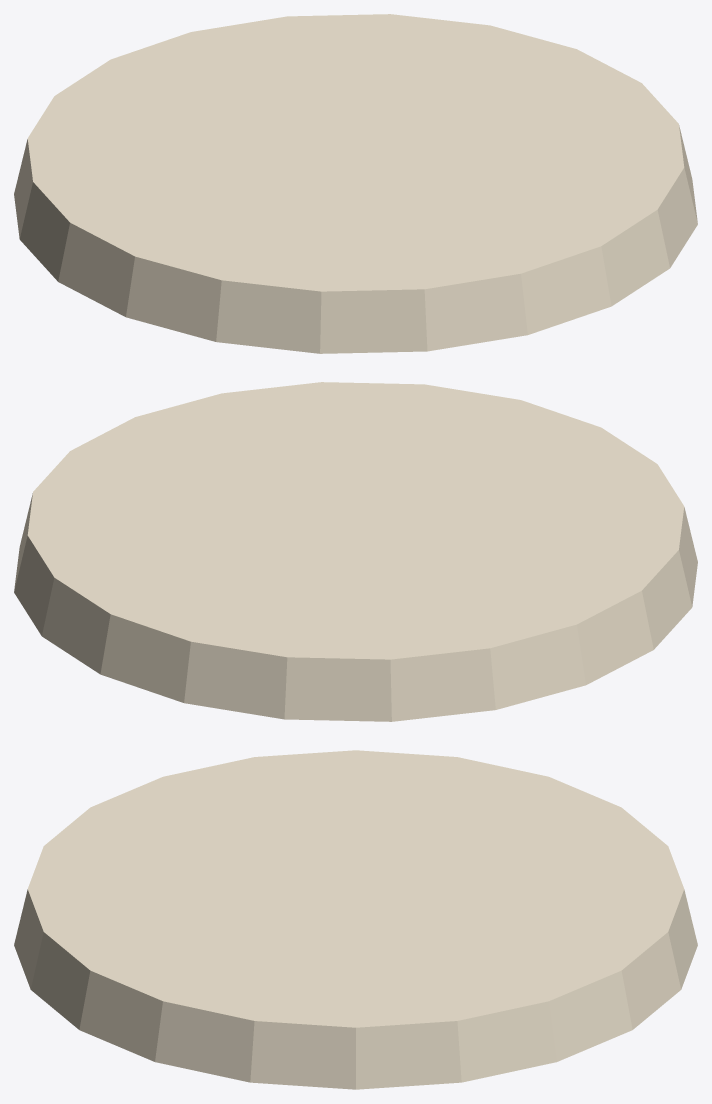
The model's file is SunnyLoop_Space_Inlay_Dot_v1.fbx.
3 renders of one model, top to bottom at view 1: azimuth 30°, elevation 25°; view 2: azimuth 150°, elevation 25°; view 3: azimuth 270°, elevation 25°, orthographic.
Visible parts, largest first — view 1: SunnyLoop_Space_Inlay_Dot_v1; view 2: SunnyLoop_Space_Inlay_Dot_v1; view 3: SunnyLoop_Space_Inlay_Dot_v1.
Boxes of the visible parts, x1=… form: SunnyLoop_Space_Inlay_Dot_v1: x1=14, y1=14, x2=697, y2=353; SunnyLoop_Space_Inlay_Dot_v1: x1=14, y1=382, x2=697, y2=721; SunnyLoop_Space_Inlay_Dot_v1: x1=14, y1=750, x2=697, y2=1089.
Size of the model in its own units: 0.896 by 0.0812 by 0.896.
